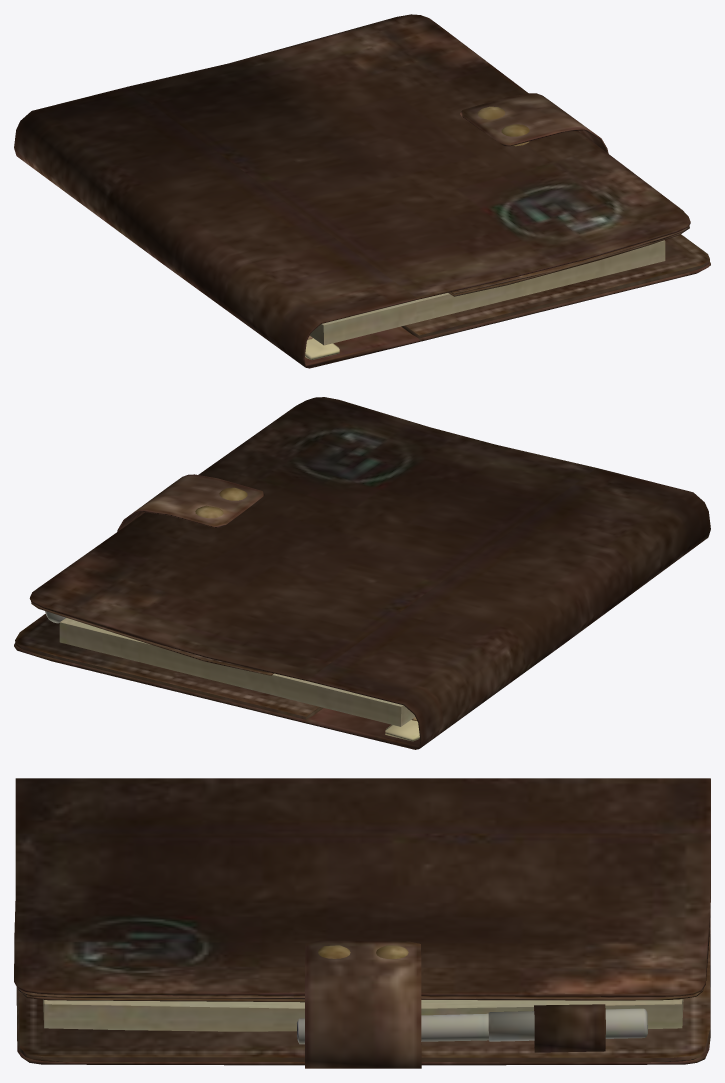
Rendered from notebook-mobile.glb.
The picture shows the model from 3 angles, top to bottom: view 1: azimuth 30°, elevation 25°; view 2: azimuth 150°, elevation 25°; view 3: azimuth 270°, elevation 25°; orthographic projection. The views are drawn at different scales.
Visible parts, largest first — view 1: binder_notebook_closed; view 2: binder_notebook_closed; view 3: binder_notebook_closed.
Part boxes in pixels (<box>): binder_notebook_closed: <box>14,14,710,368</box>; binder_notebook_closed: <box>14,397,710,749</box>; binder_notebook_closed: <box>14,778,710,1068</box>.
Bounding box in the file's own units: 0.1704 × 0.0249 × 0.1997.
1 material, 1 textured.
